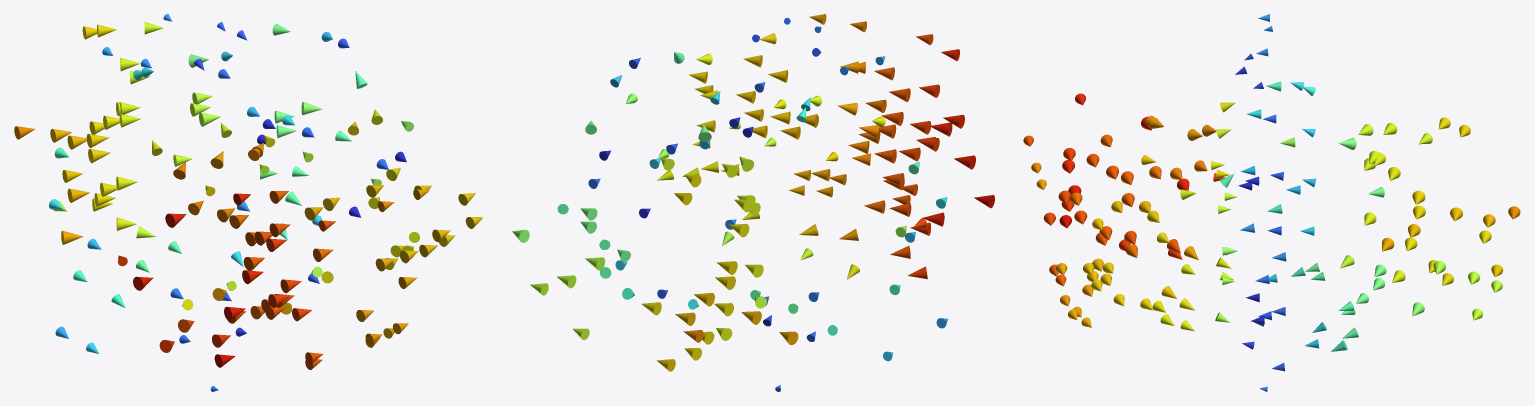
The model's file is LineasCorrienteH2-O2_mh2-2.70_V-0.7.glb.
3 views of the same model, side by side, from view 1: azimuth 30°, elevation 25°; view 2: azimuth 150°, elevation 25°; view 3: azimuth 270°, elevation 25° (orthographic). The views are drawn at different scales.
Bounding box in the file's own units: 0.000934 × 0.000962 × 0.00125.
2 materials, 2 textured.
